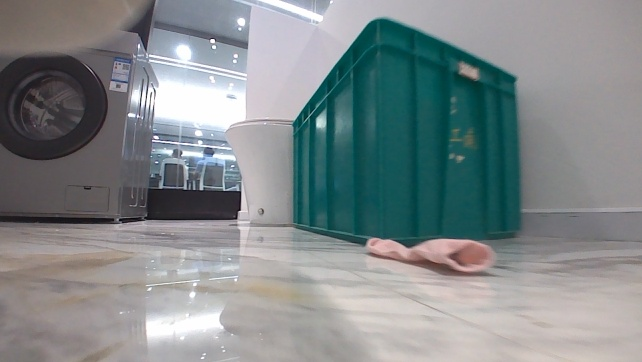socks: (362, 229, 496, 279)
toilet: (222, 115, 295, 227)
washing_machine: (0, 31, 162, 225)
